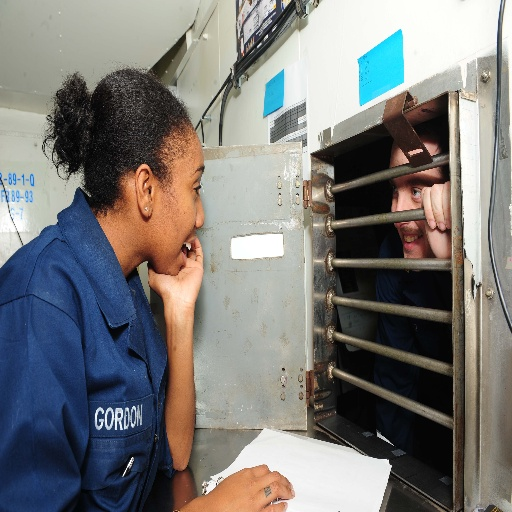hand: (197, 468, 297, 511), (148, 234, 203, 301), (420, 179, 452, 259)
